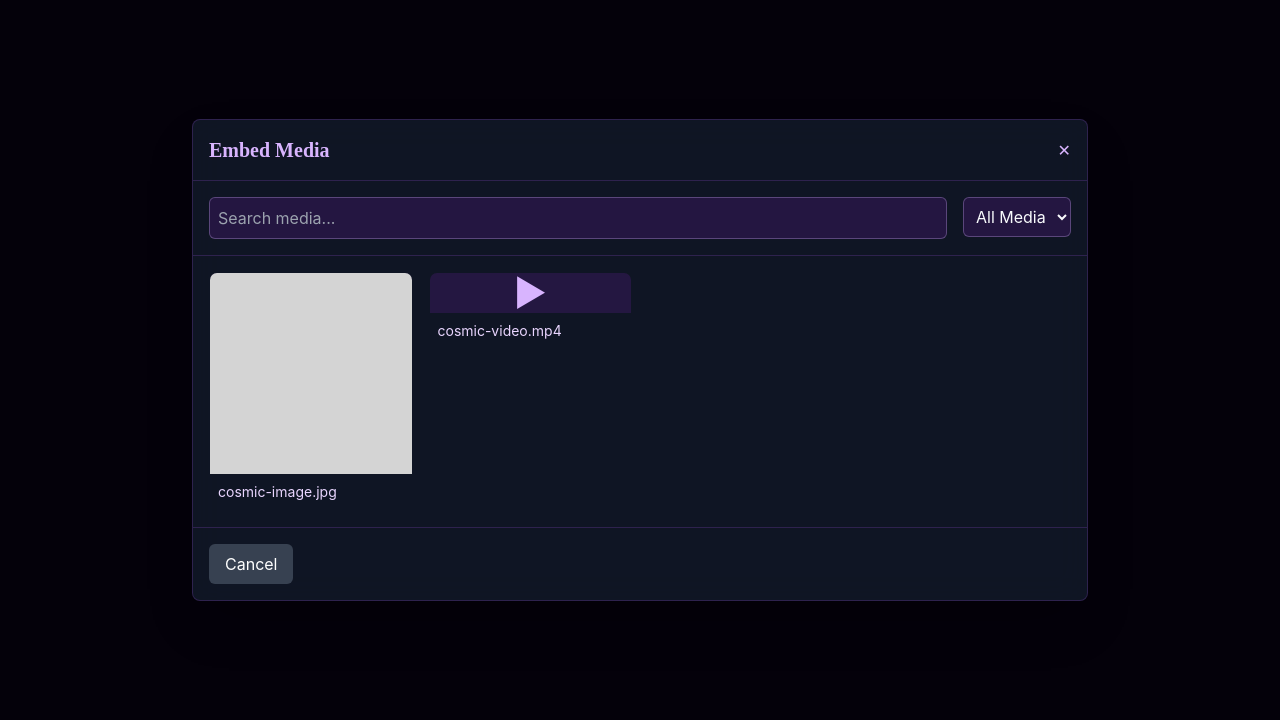
Test: MediaEmbedder Component › displays no media found message when search has no results
Check: the text "cosmic-image.jpg" is shown, box [218,483,337,500]
Note: Enter search term with no matches
Type "nonexistent" into the field with placeholder "Search media...".
click(578, 218); type("nonexistent")  # box [209,197,947,239]
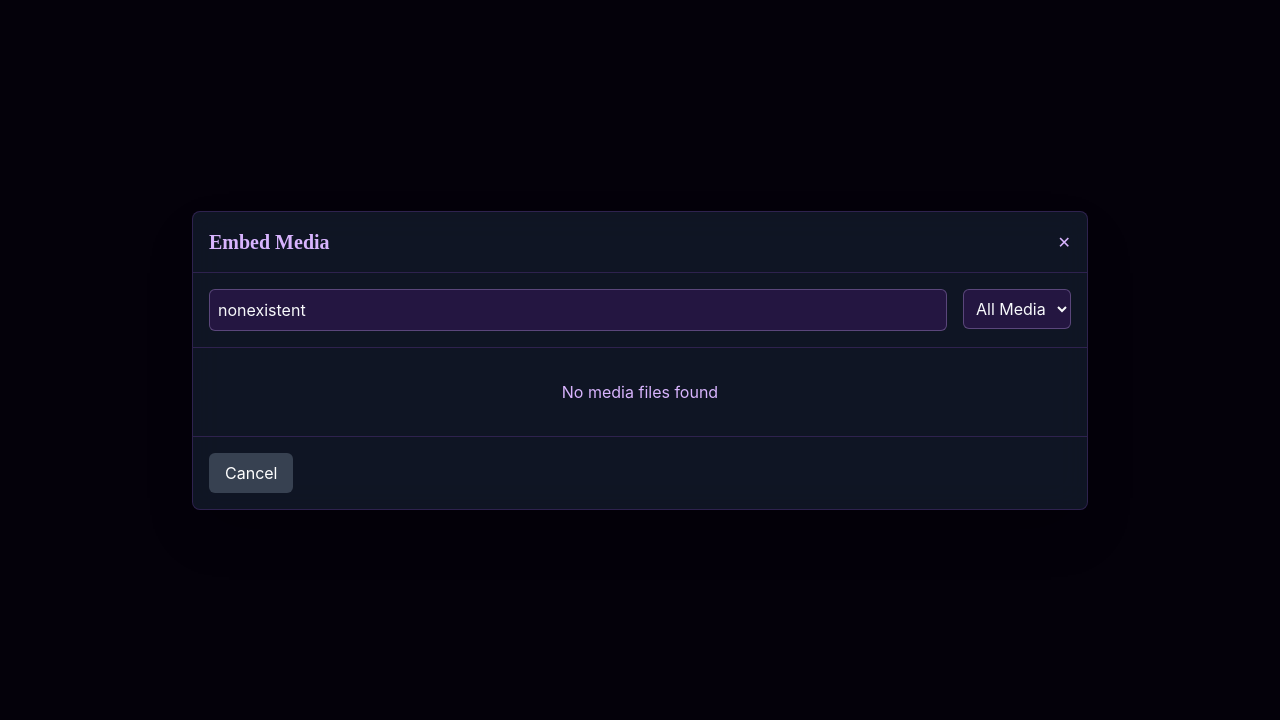
Check: the text "No media files found" is shown, box [562,382,718,402]
